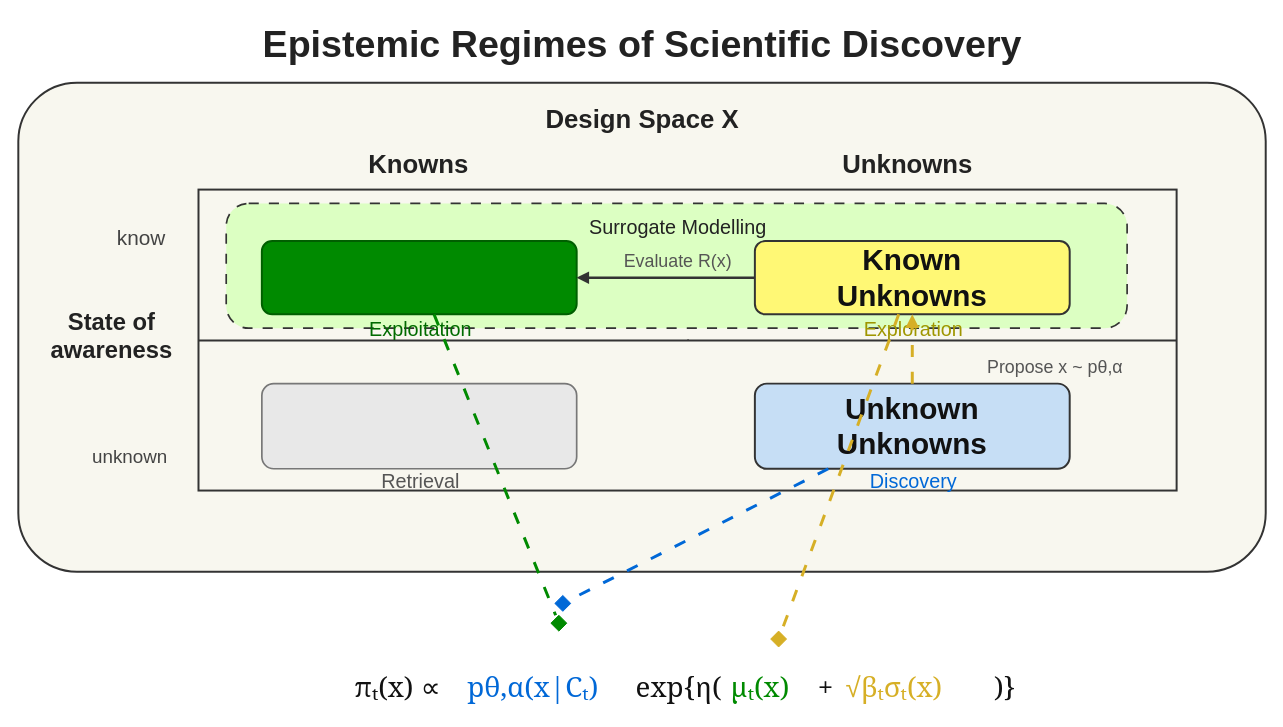
This 1283x727 diagram has some shape labels left out. The centre of each missing label's shape, as x and y in pixels:
"Known Knowns" goes at (418,277).
"Unknown Knowns" goes at (419,425).
